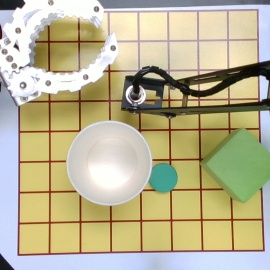cup: (64, 120, 152, 207)
green: (149, 163, 178, 193)
